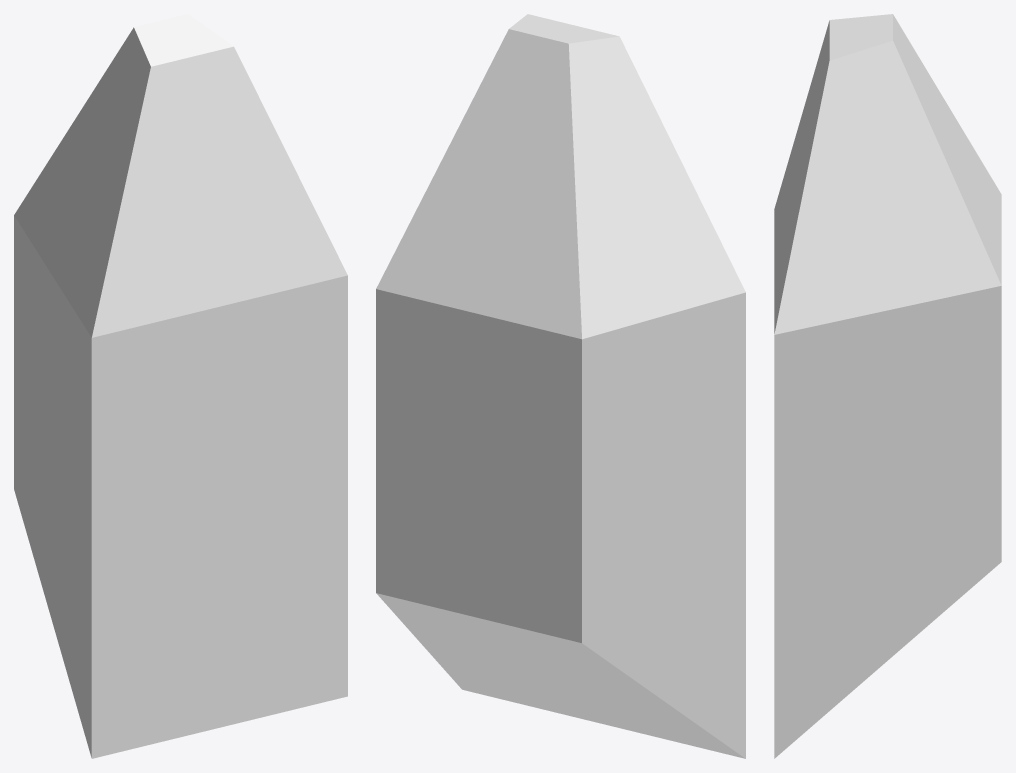
Rendered from head_2.fbx.
3 renders of one model, left to right at view 1: azimuth 30°, elevation 25°; view 2: azimuth 150°, elevation 25°; view 3: azimuth 270°, elevation 25°, orthographic. The views are drawn at different scales.
Visible parts, largest first — view 1: Cube.050; view 2: Cube.050; view 3: Cube.050.
Boxes of the visible parts, x1,y1,x2,y2 form: Cube.050: (14, 14, 347, 758); Cube.050: (376, 14, 745, 758); Cube.050: (774, 14, 1001, 758).
Bounding box in the file's own units: 7.42 × 18.39 × 5.66.
